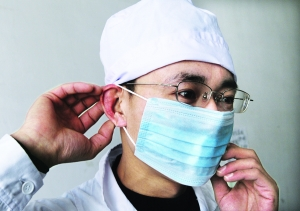face_mask: (129, 55, 239, 167)
